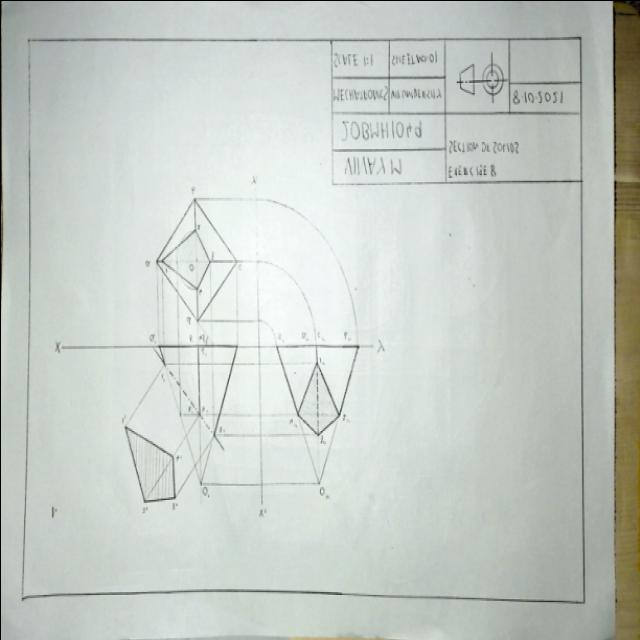Drawings: (37, 167, 400, 552)
